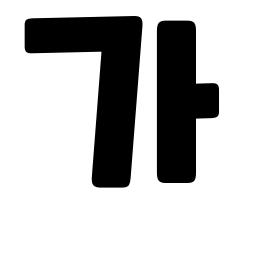Gaji: (145, 71, 212, 133)
